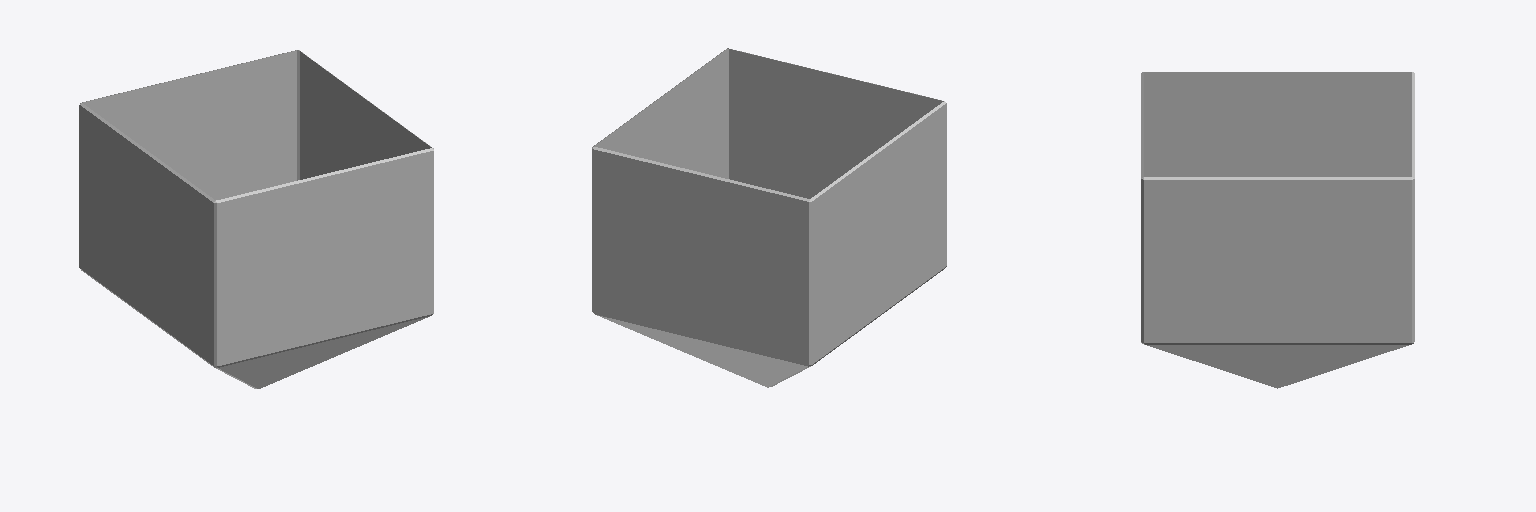
File: library.obj
3 views of the same model, side by side, from view 1: azimuth 30°, elevation 25°; view 2: azimuth 150°, elevation 25°; view 3: azimuth 270°, elevation 25° (orthographic).
Bounding box in the file's own units: 2.24 × 2.54 × 2.43.